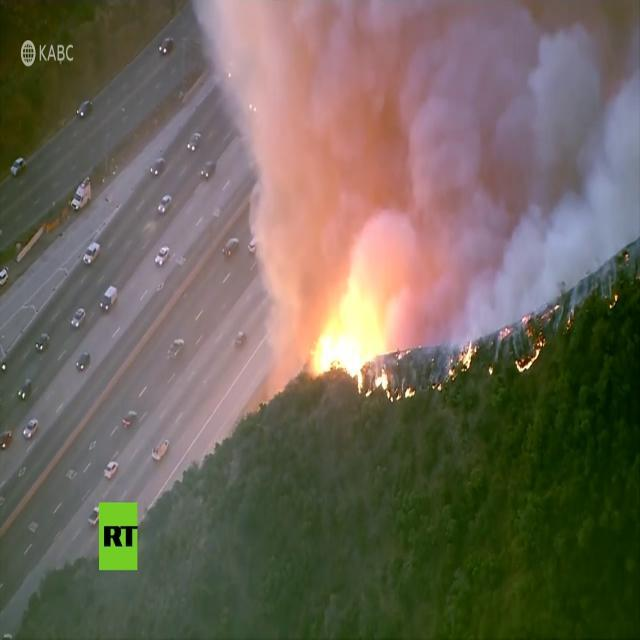Fire: (302, 290, 378, 390), (372, 372, 416, 400), (512, 346, 542, 372), (459, 340, 475, 370)
